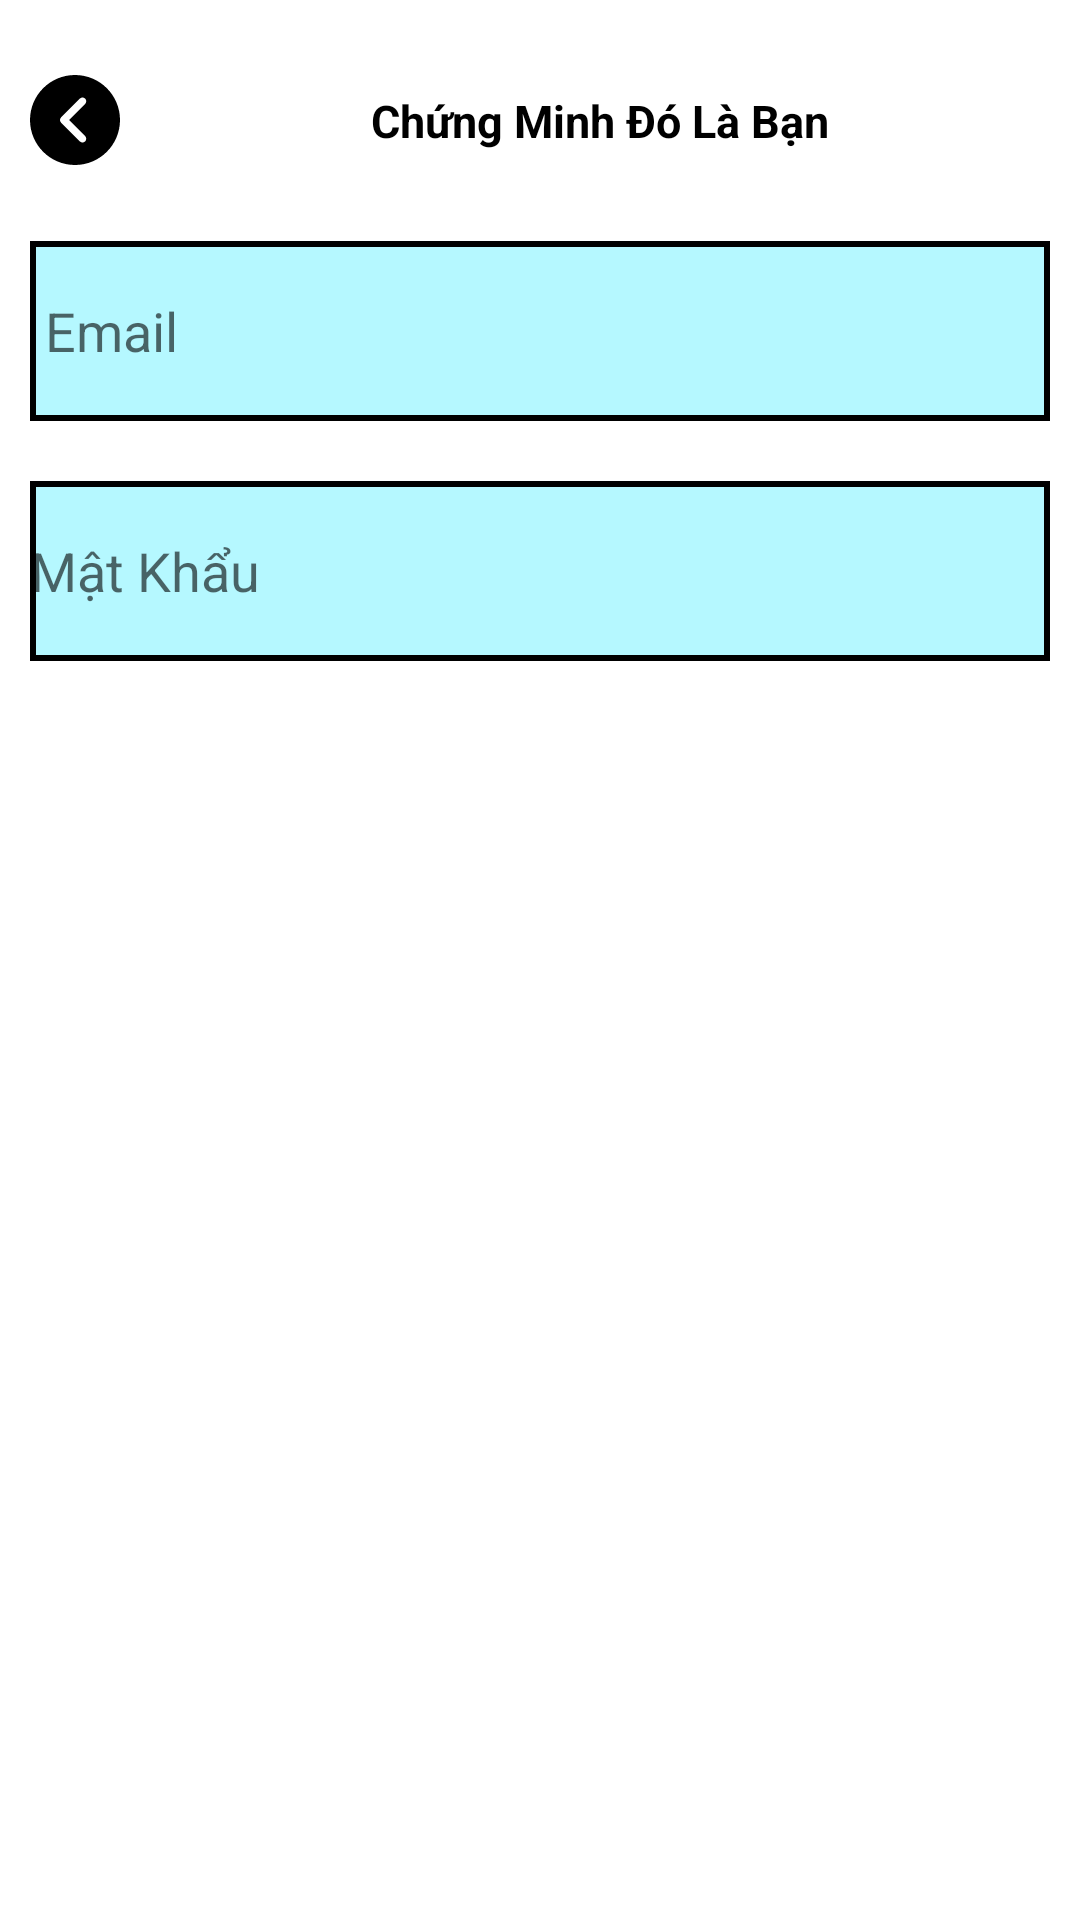

Icons on this 1080px x 1920px Android screen, each with its box as (x1,y1,x2,y2):
return: (30,75,120,165)
